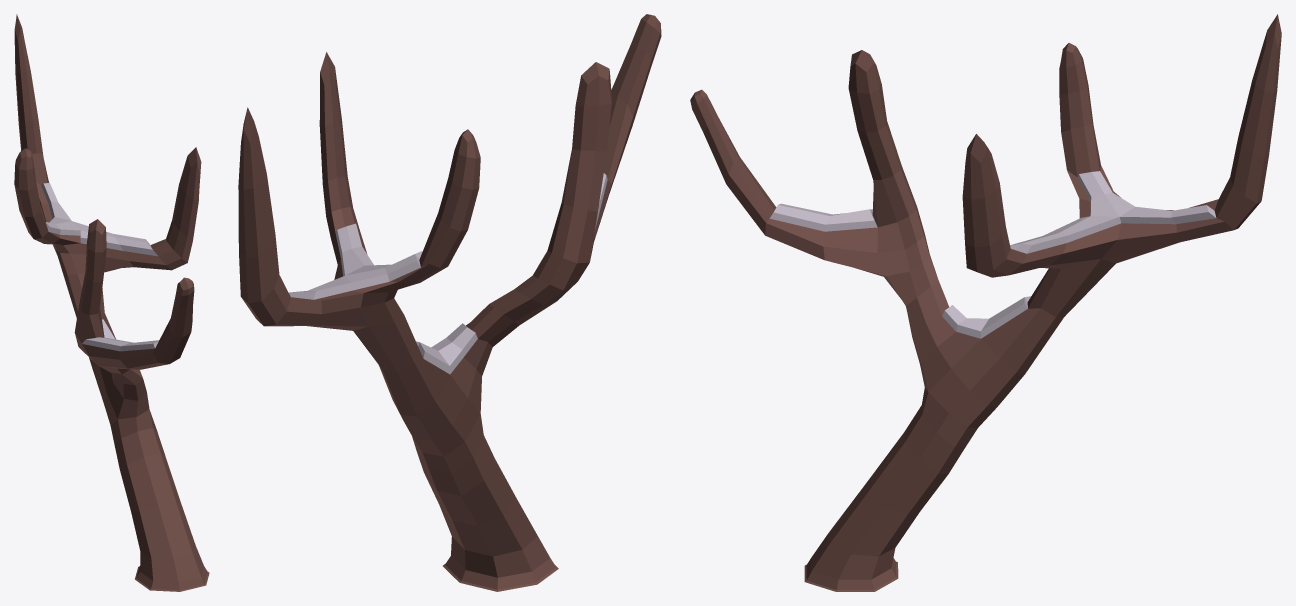
File: willow_dead_snow_4.glb
3 views of the same model, side by side, from view 1: azimuth 30°, elevation 25°; view 2: azimuth 150°, elevation 25°; view 3: azimuth 270°, elevation 25° (orthographic). The views are drawn at different scales.
Parts seen in each view (by area): view 1: Willow_Dead_Snow_4; view 2: Willow_Dead_Snow_4; view 3: Willow_Dead_Snow_4.
Part boxes in pixels (box(x1,y1,x2,y2)): Willow_Dead_Snow_4: box(14, 14, 209, 591); Willow_Dead_Snow_4: box(238, 14, 661, 591); Willow_Dead_Snow_4: box(690, 14, 1281, 591).
Size of the model in its own units: 1.01 by 2.72 by 2.59.
